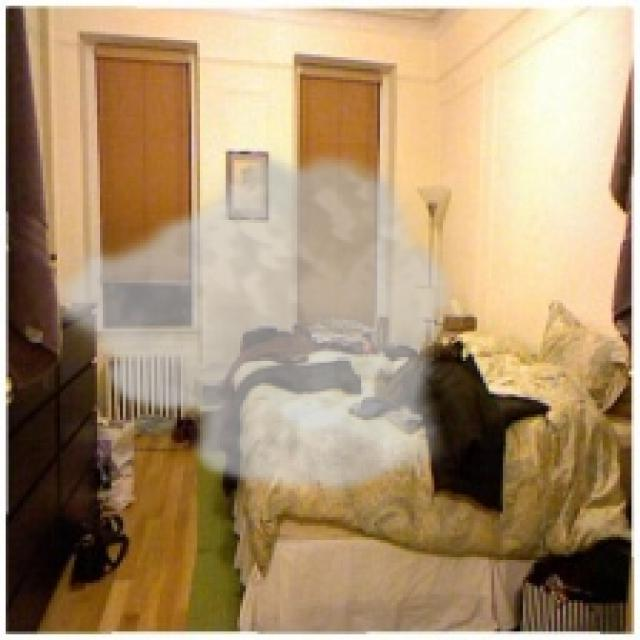smoke: (49, 143, 457, 500)
